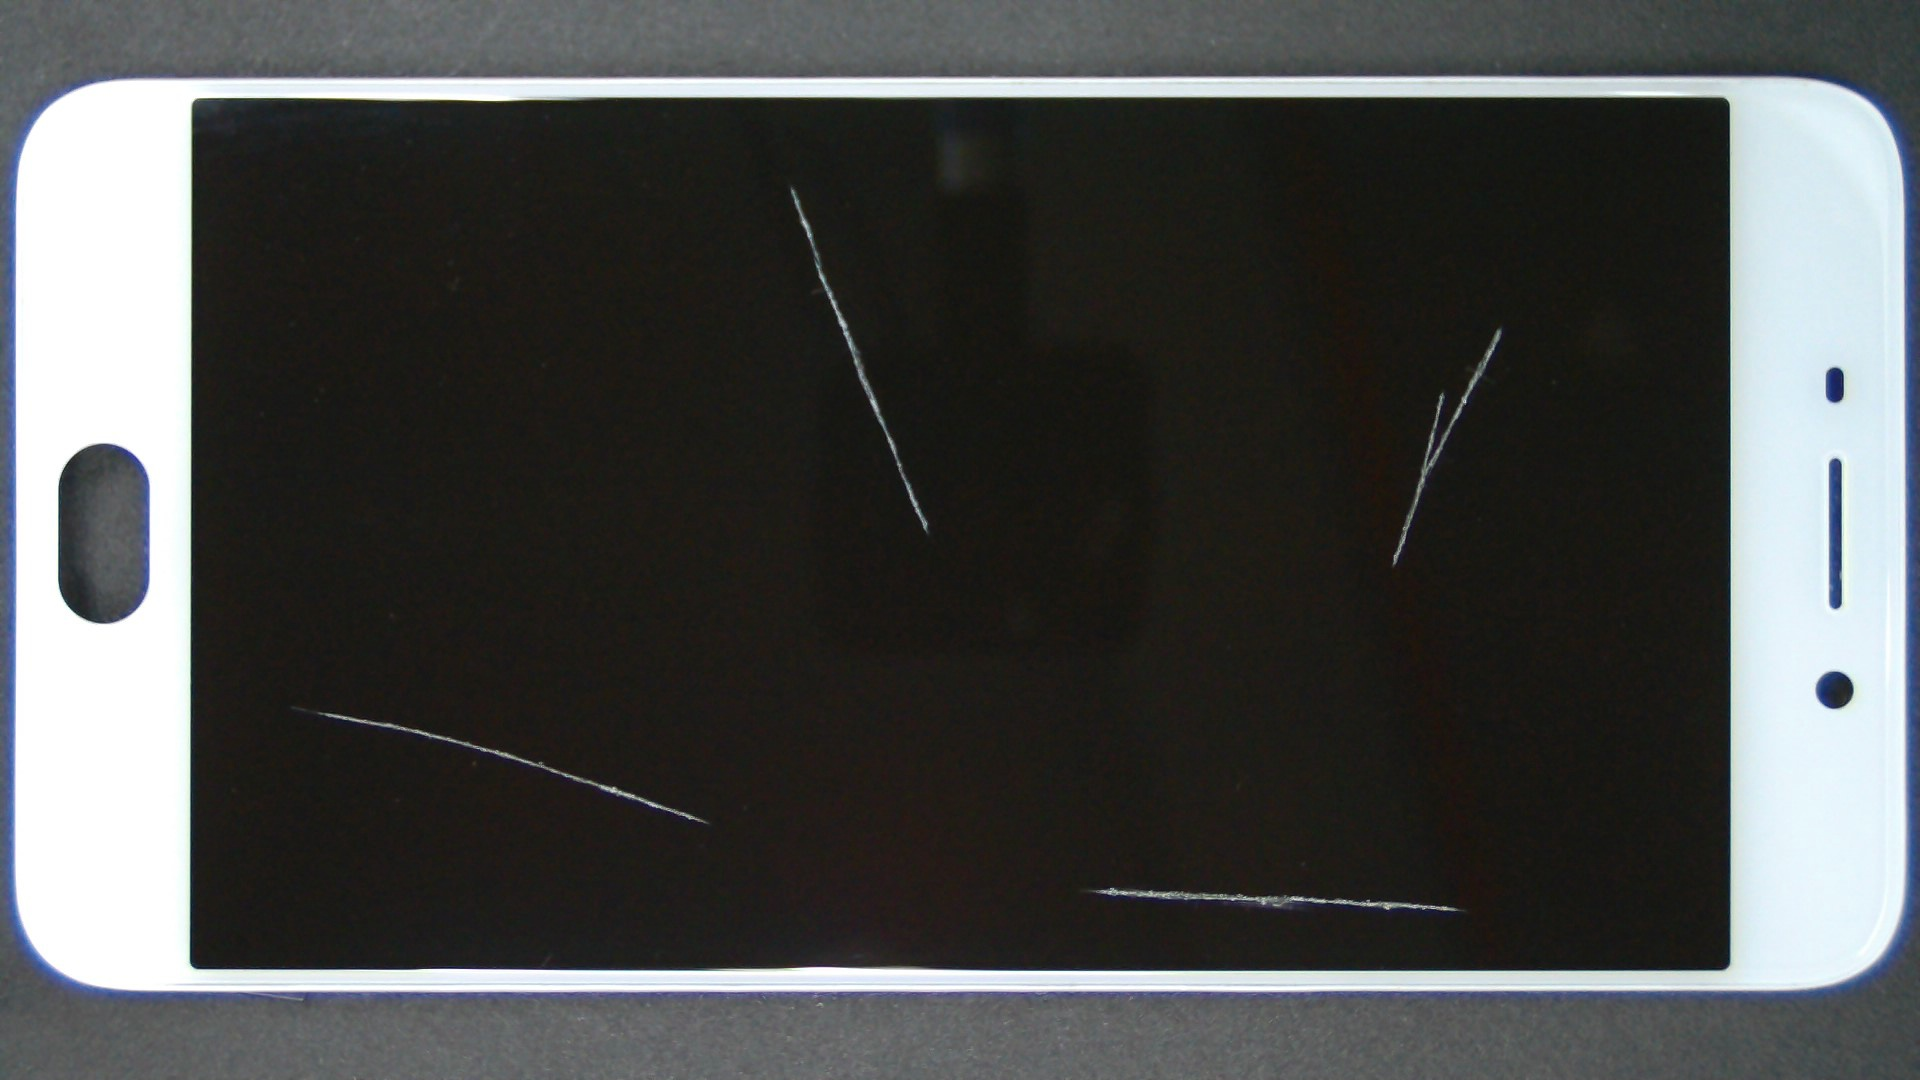oil: (555, 443, 1662, 1080), (749, 164, 1920, 491), (146, 352, 438, 1058), (396, 88, 1185, 284)
